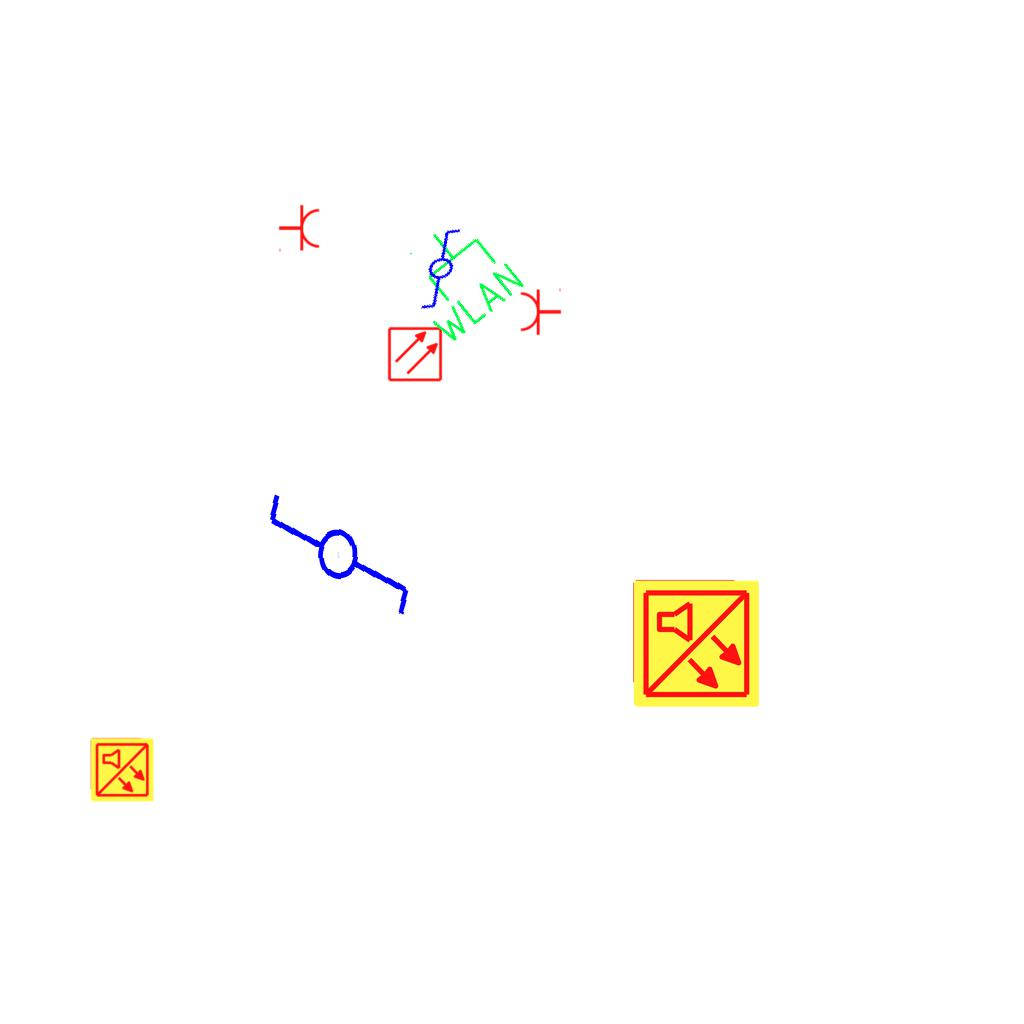OKW_Multisensormelder_(Kombination_optischer_Rauch-Kahlenmonoxid_Waerme-Melder): (630, 578, 762, 710), (89, 737, 155, 803)
RMO_Rauchmelder_optischer: (387, 326, 443, 382)
Schukosteckdose_einfach: (519, 286, 562, 336), (278, 204, 321, 254)
WLAN: (383, 205, 531, 352)
Wechselschalter: (260, 461, 419, 631), (395, 220, 495, 316)
